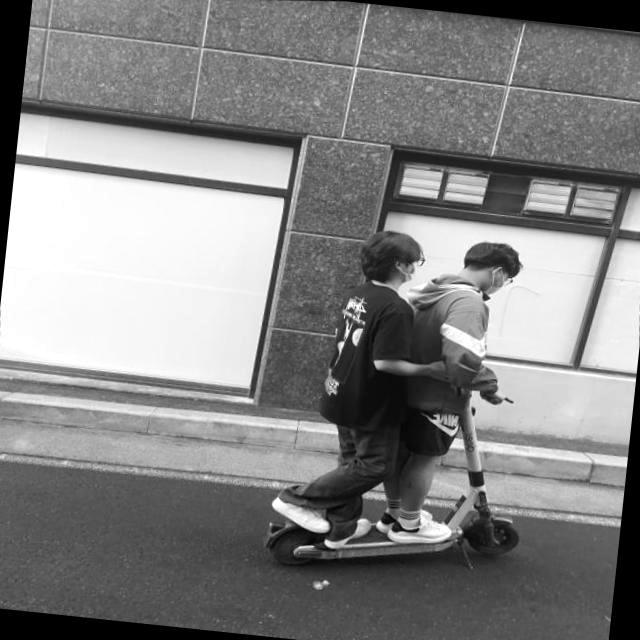bare_head: (357, 229, 424, 293), (465, 233, 524, 294)
human: (374, 235, 519, 543), (283, 229, 423, 541)
kickboard: (256, 493, 522, 569)
